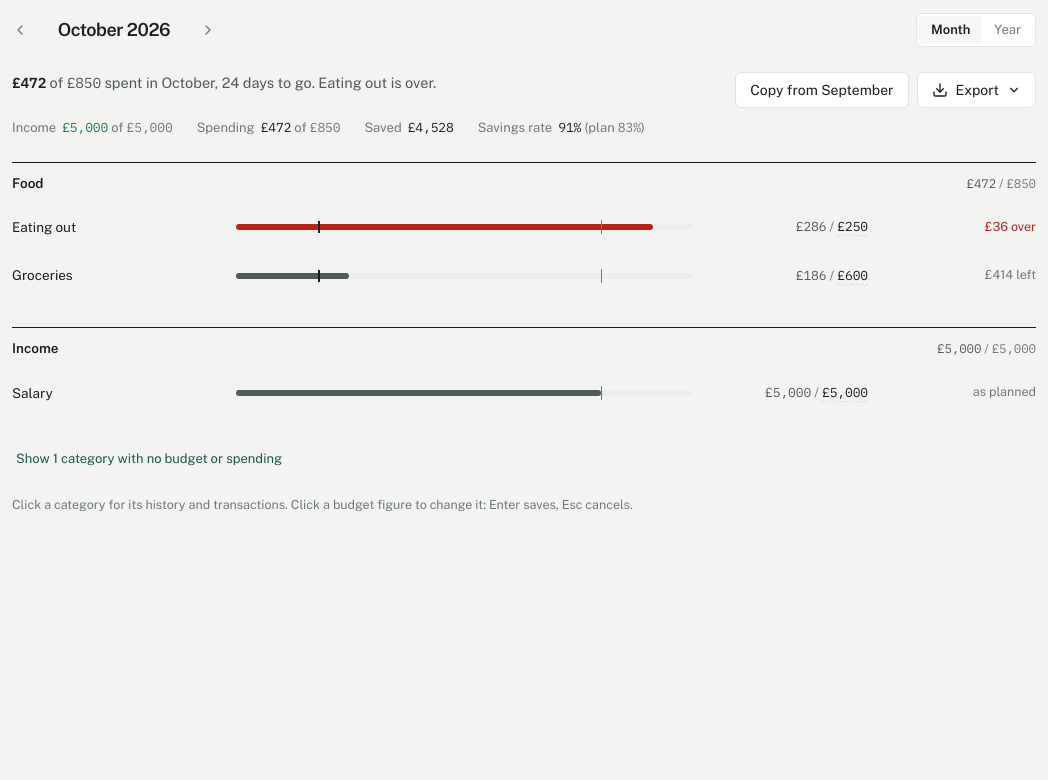
Test: BudgetsView › opens with a sentence about the month and what is over
The image size is (1048, 780).
Check: the text "spent in October, 24 days to go" reads "£472 of £850 spent in October, 24 days to go. Eating out is over.", box [12,73,436,92]
Check: the text "£36 over" is shown, box [985,219,1036,234]
Click the button "Show 1 category with no budget or spending".
click(149, 458)  # box [12,444,286,472]
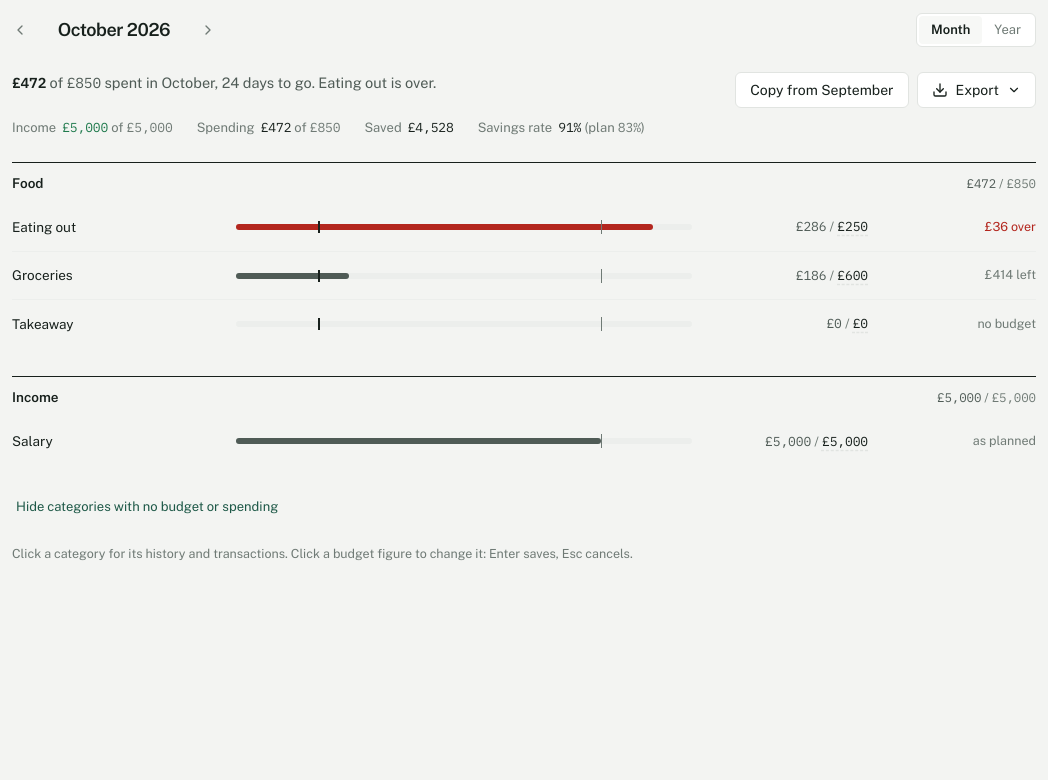
Check: the button "Takeaway" is shown, box [12,314,220,334]
